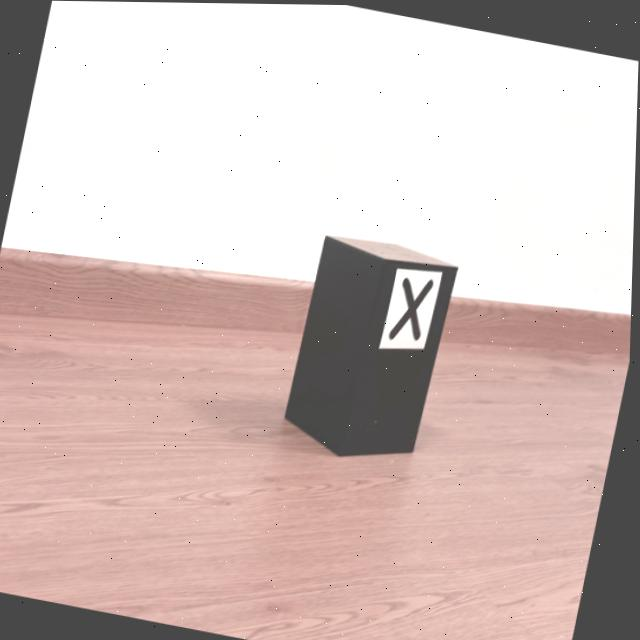X: (390, 275, 435, 339)
